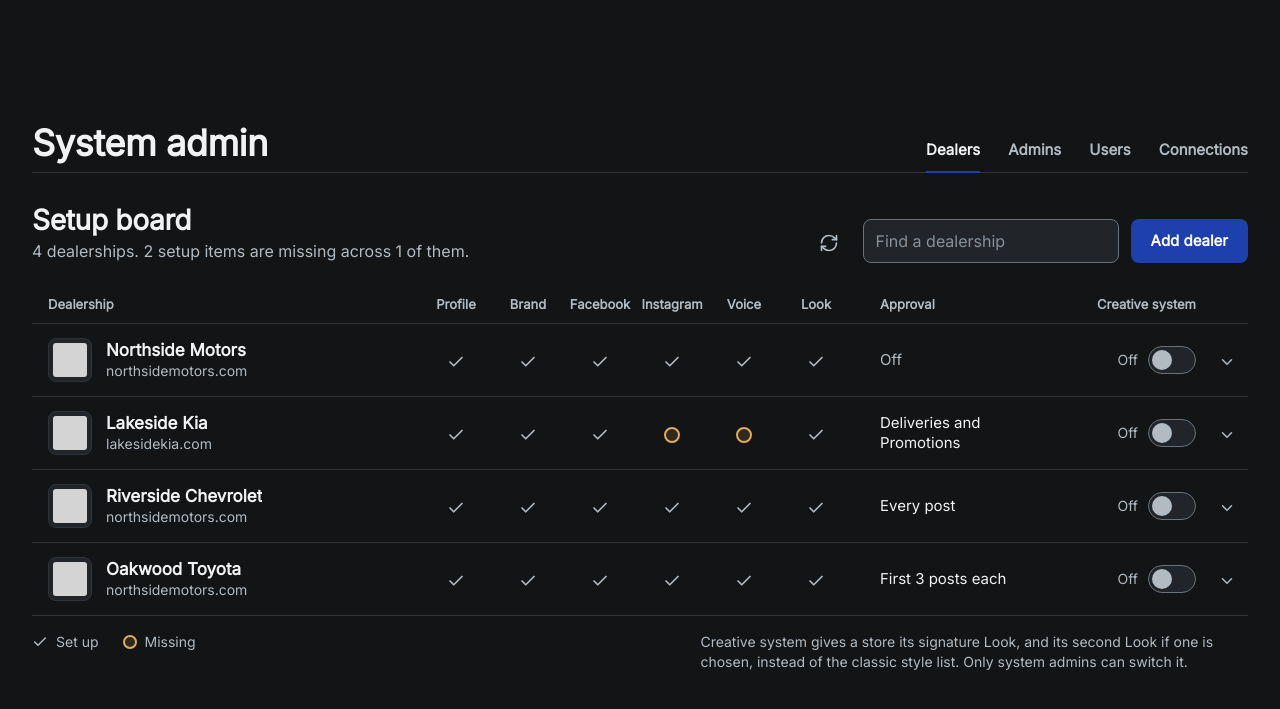
Scenario: an open store › says everything is set up when nothing counted is missing
This screenshot has width=1280, height=709.
(page scrolled)
Click the button "Northside Motors northsidemotors.com". click: (228, 360)
box: x1=48 y1=332 x2=408 y2=388
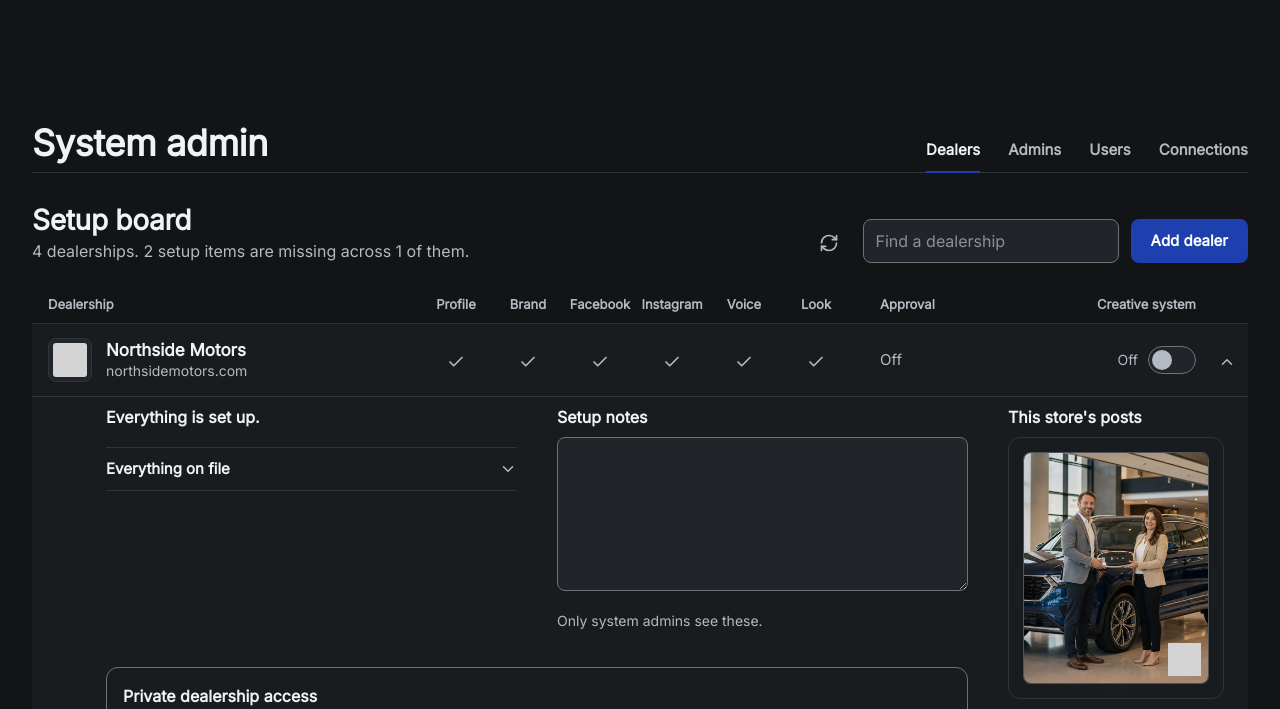
Check: the heading "Everything is set up." is shown, box x1=106 y1=407 x2=260 y2=427
